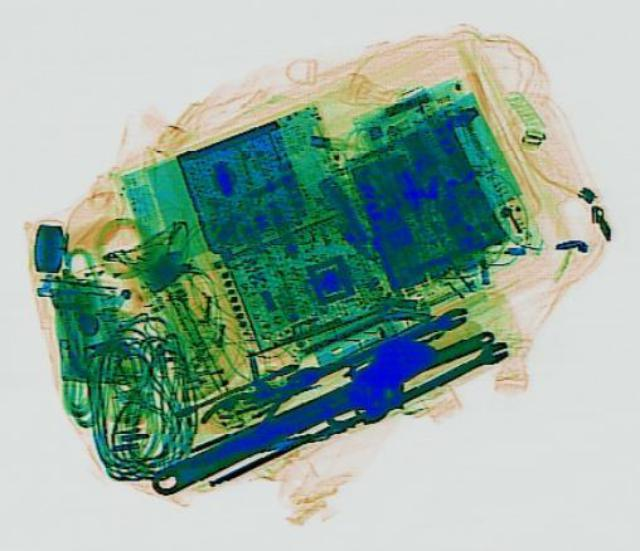Pliers: (192, 353, 334, 449)
Wrench: (142, 376, 368, 498), (353, 337, 513, 423), (332, 302, 472, 375)
